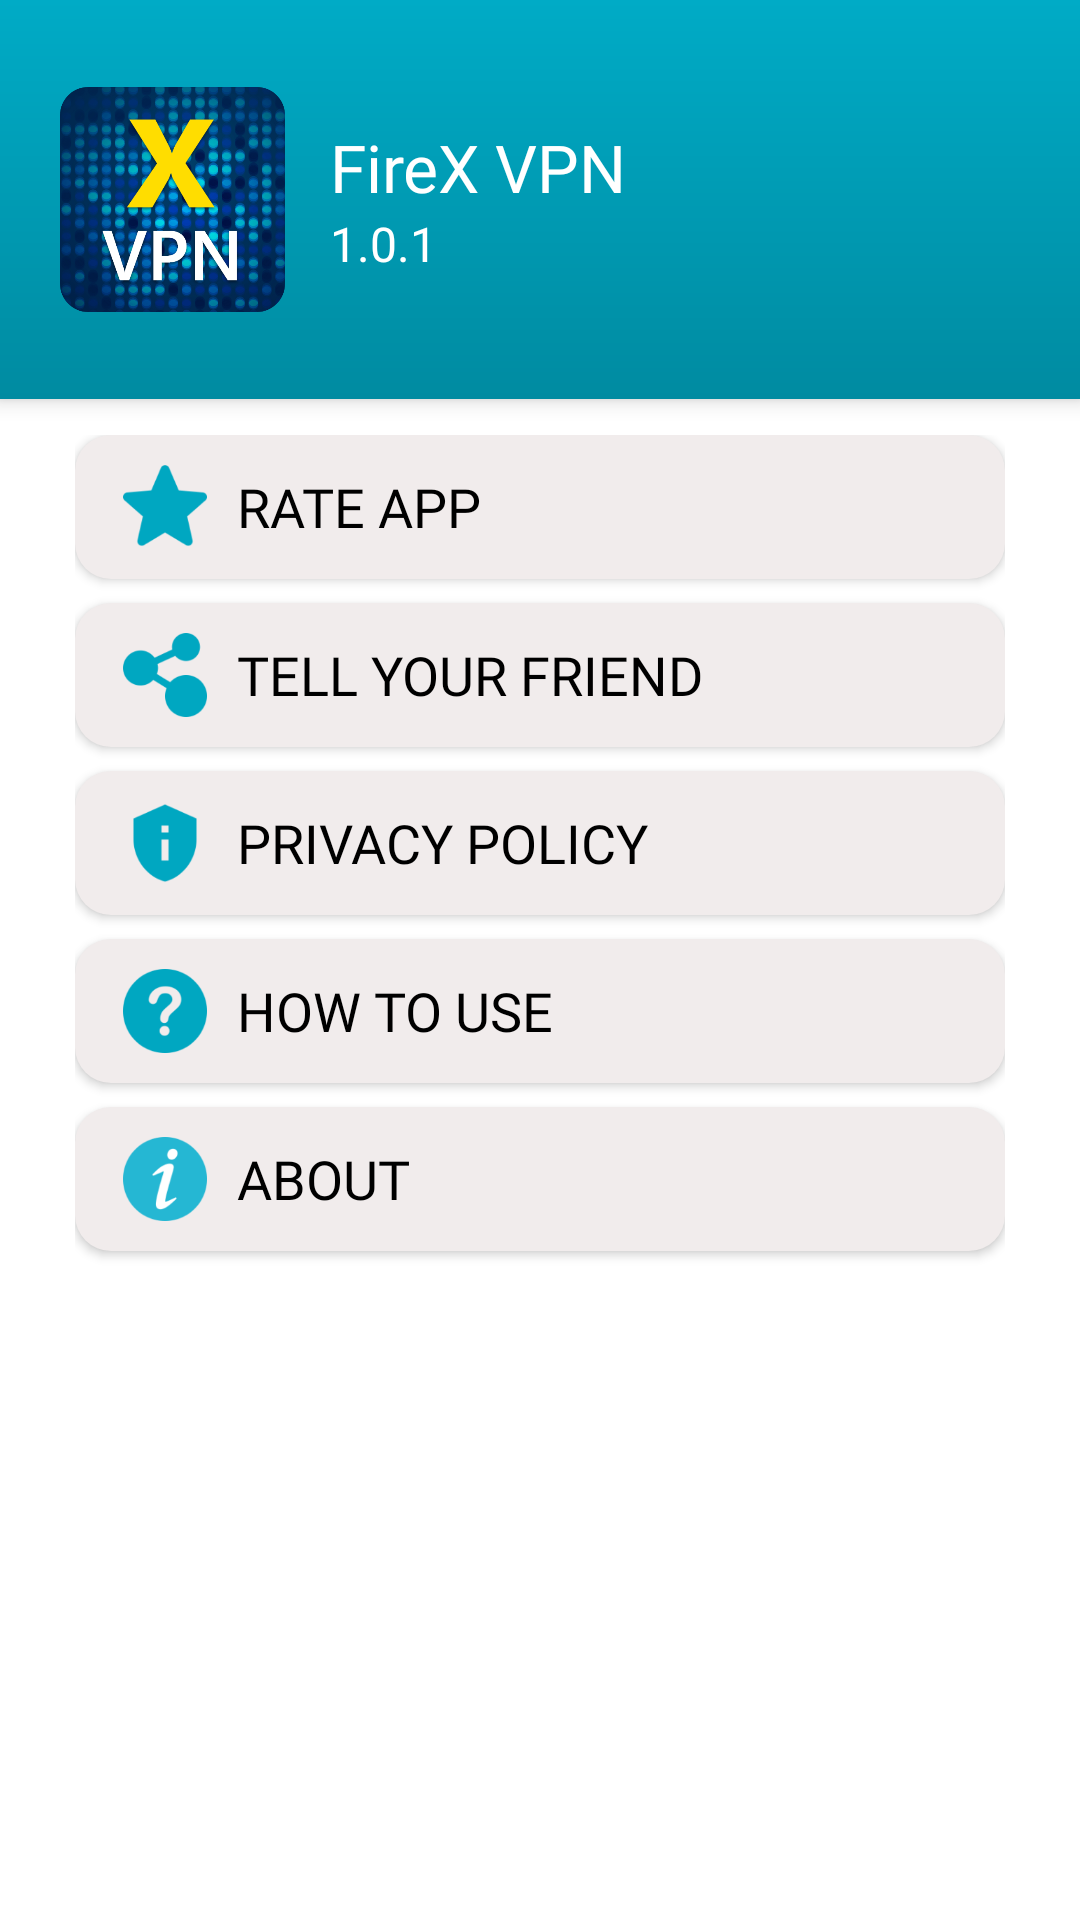

Named icons in this screenshot (1080 × 1920) and their bounding boxes, (x1, y1, x2, y2):
share: (123, 633, 207, 717)
star: (123, 465, 207, 546)
